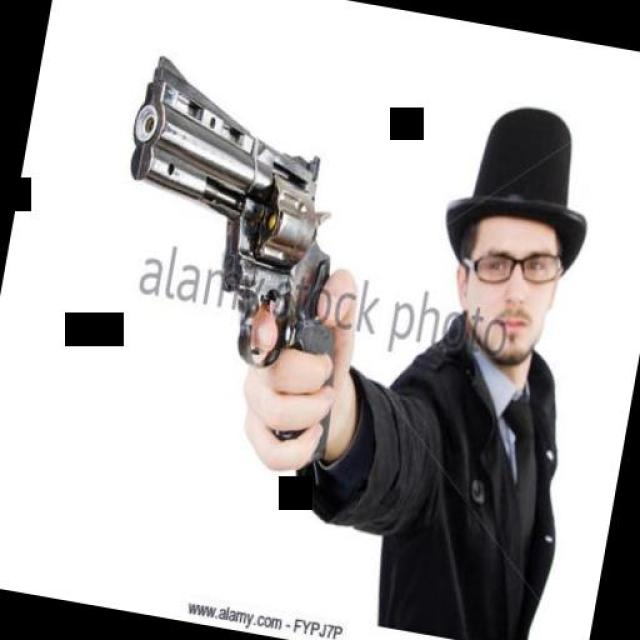gun: (79, 46, 388, 468)
